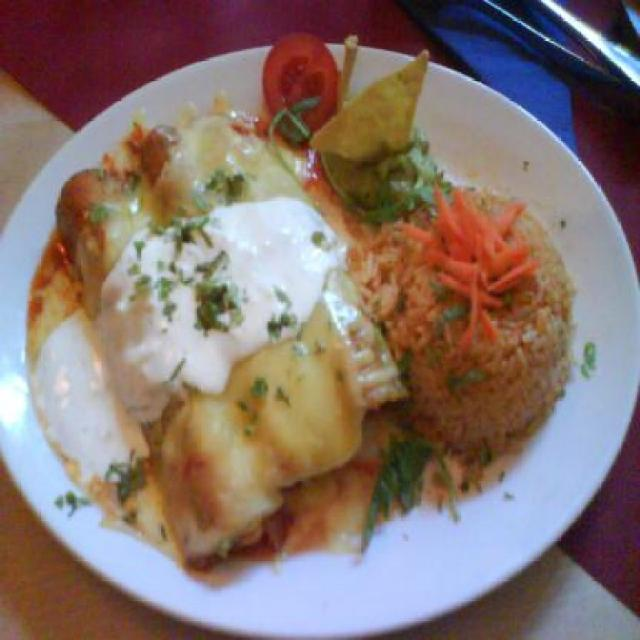Tomato: (262, 36, 344, 133)
